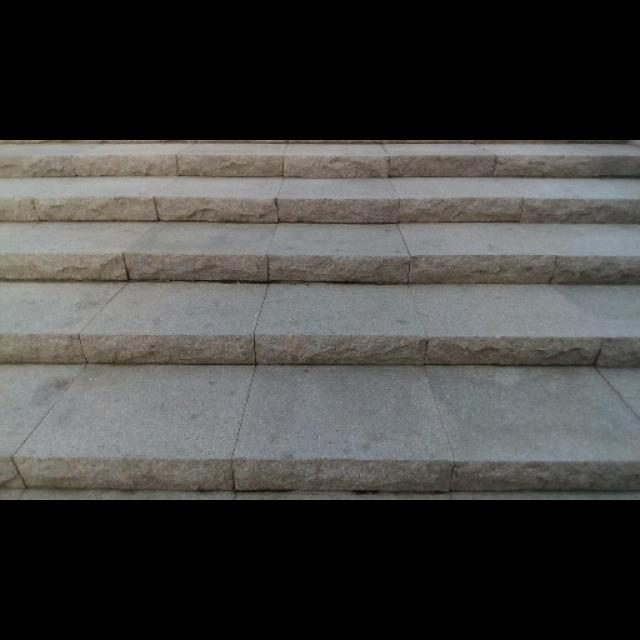Stairs: (0, 138, 639, 492)
